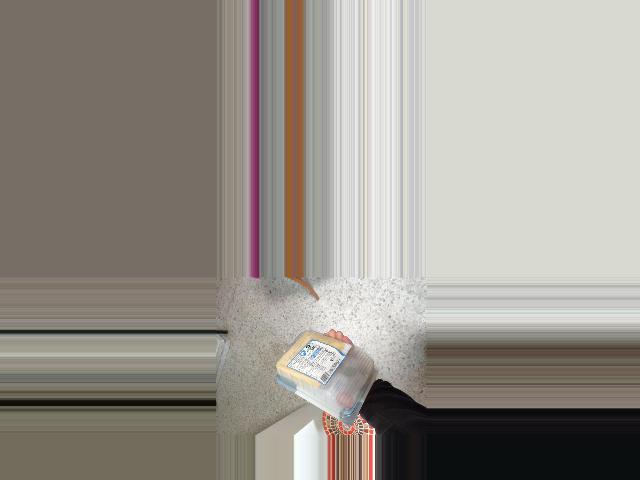cheese: (269, 322, 382, 431)
